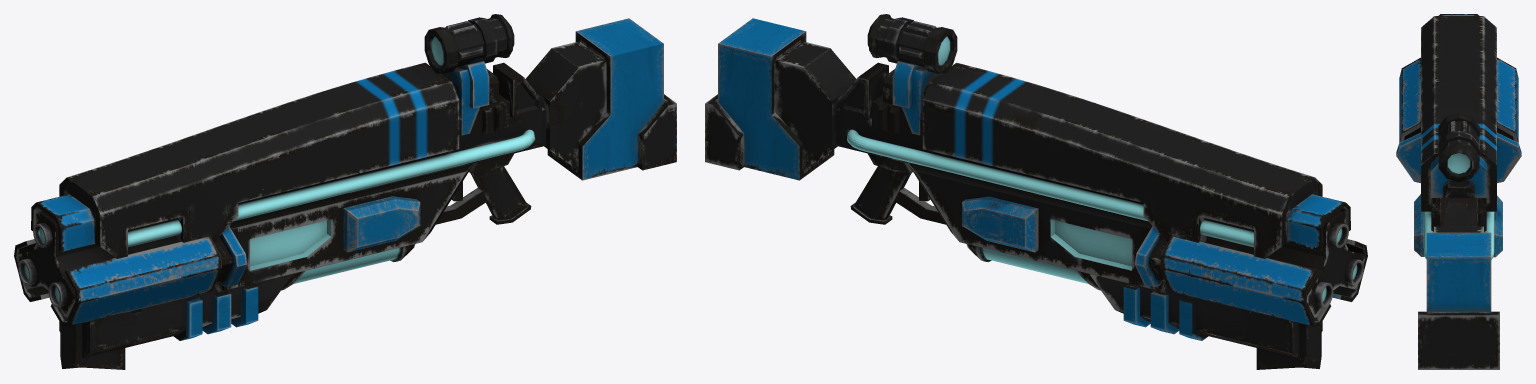
Rendered from beam_mesh.Obj.
The picture shows the model from 3 angles, left to right: view 1: azimuth 30°, elevation 25°; view 2: azimuth 150°, elevation 25°; view 3: azimuth 270°, elevation 25°; orthographic projection. The views are drawn at different scales.
Visible parts, largest first — view 1: polySurface83; view 2: polySurface83; view 3: polySurface83.
Part boxes in pixels (box(x1,y1,x2,y2)): polySurface83: box(14, 14, 676, 369); polySurface83: box(705, 14, 1367, 369); polySurface83: box(1396, 14, 1521, 369).
Size of the model in its own units: 1820 by 723 by 344.
